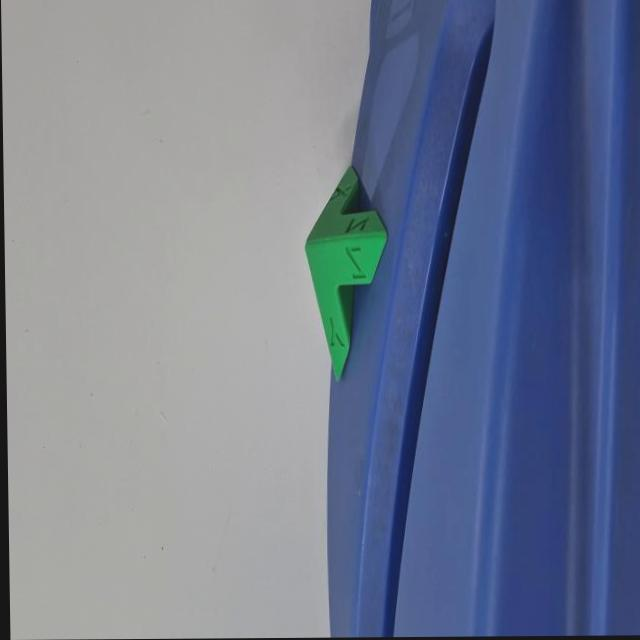eje: (301, 162, 390, 384)
